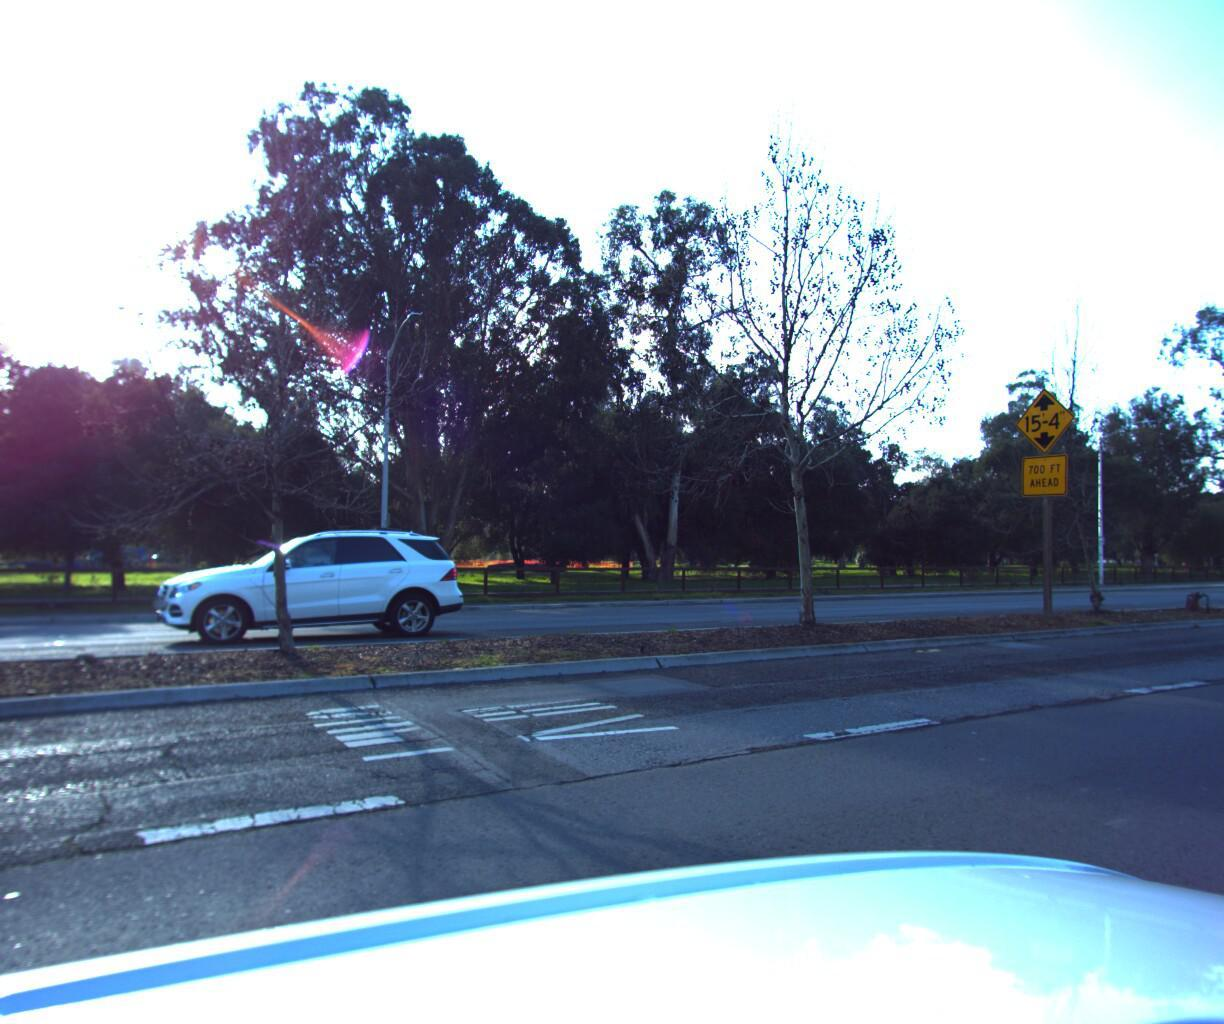car: (152, 519, 466, 642)
